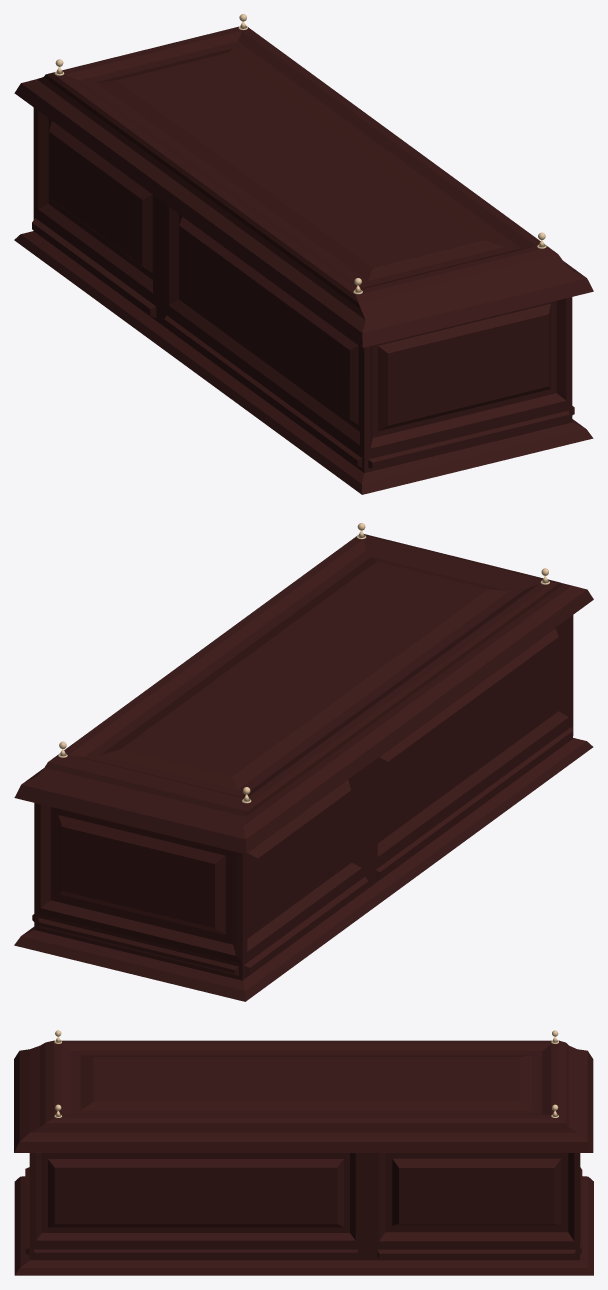
Rendered from casket.glb.
3 views of the same model, one above another, from view 1: azimuth 30°, elevation 25°; view 2: azimuth 150°, elevation 25°; view 3: azimuth 270°, elevation 25° (orthographic). The views are drawn at different scales.
Visible parts, largest first — view 1: Cube.001_1, Cube_0; view 2: Cube.001_1, Cube_0; view 3: Cube_0, Cube.001_1.
Part boxes in pixels (x1,y1,x2,y2): Cube.001_1: (14, 26, 593, 347); Cube_0: (14, 107, 593, 494); Cube.001_1: (14, 534, 593, 854); Cube_0: (14, 615, 593, 1001); Cube_0: (14, 1153, 593, 1275); Cube.001_1: (14, 1040, 593, 1152).
Size of the model in its own units: 3.21 by 2.55 by 8.37.
Materials: 2 (1 with a texture image).
